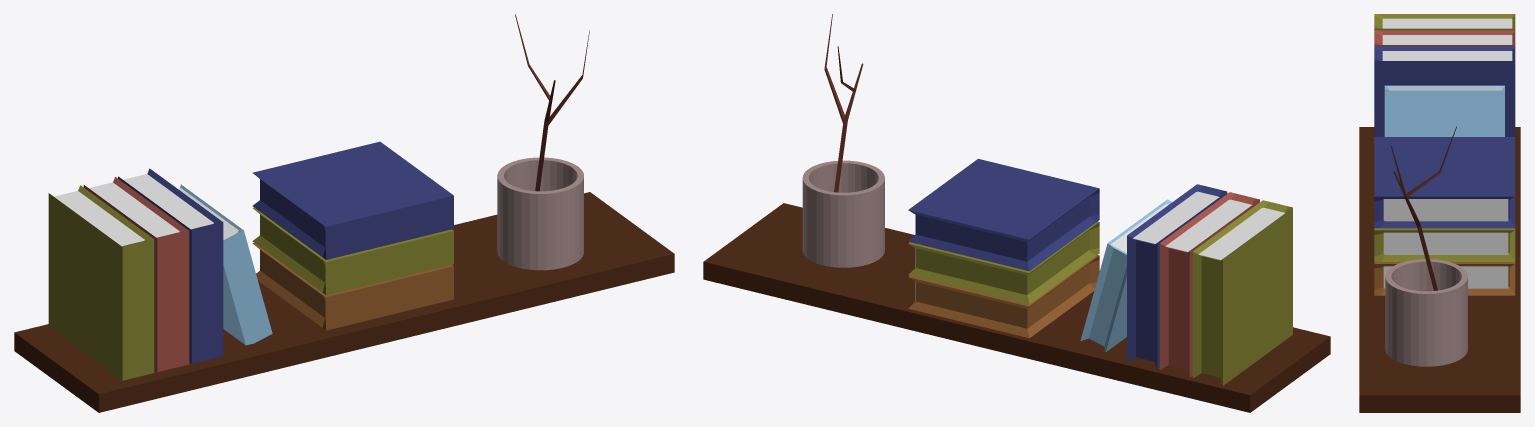
The model's file is shelf.fbx.
3 renders of one model, left to right at view 1: azimuth 30°, elevation 25°; view 2: azimuth 150°, elevation 25°; view 3: azimuth 270°, elevation 25°, orthographic. The views are drawn at different scales.
Visible parts, largest first — view 1: Cube.019, Cube.026, Cube.020, Cylinder, Cube.025, Cube.024, Cube.021, Cube.022, Cube.023, Plane.003, Plane.004, Plane.002 (+1 smaller); view 2: Cube.019, Cube.026, Cube.020, Cylinder, Cube.025, Cube.024, Cube.021, Cube.022, Cube.023, Plane.003, Plane.002, Plane.004 (+1 smaller); view 3: Cube.019, Cube.026, Cylinder, Cube.023, Cube.022, Plane.006, Plane.007, Cube.025, Plane.002, Plane.003, Plane.004, Cube.024 (+5 smaller).
Boxes of the visible parts, bbox=[...] form: Cube.019: bbox=[14, 192, 674, 412]; Cube.026: bbox=[252, 141, 453, 259]; Cube.020: bbox=[48, 185, 154, 380]; Cylinder: bbox=[497, 157, 583, 270]; Cube.025: bbox=[252, 207, 453, 295]; Cube.024: bbox=[252, 243, 453, 330]; Cube.021: bbox=[83, 177, 189, 372]; Cube.022: bbox=[118, 168, 223, 363]; Cube.023: bbox=[180, 184, 272, 345]; Plane.003: bbox=[89, 182, 179, 237]; Plane.004: bbox=[123, 174, 213, 229]; Plane.002: bbox=[54, 191, 144, 246]; Cube.019: bbox=[703, 203, 1330, 412]; Cube.026: bbox=[908, 158, 1099, 271]; Cube.020: bbox=[1192, 200, 1292, 385]; Cylinder: bbox=[802, 160, 884, 267]; Cube.025: bbox=[908, 221, 1099, 304]; Cube.024: bbox=[908, 255, 1099, 338]; Cube.021: bbox=[1159, 192, 1259, 377]; Cube.022: bbox=[1127, 184, 1227, 369]; Cube.023: bbox=[1080, 199, 1172, 351]; Plane.003: bbox=[1165, 199, 1251, 251]; Plane.002: bbox=[1198, 207, 1284, 259]; Plane.004: bbox=[1133, 191, 1219, 243]; Cube.019: bbox=[1359, 127, 1520, 412]; Cube.026: bbox=[1374, 137, 1515, 228]; Cylinder: bbox=[1385, 259, 1467, 366]; Cube.023: bbox=[1384, 85, 1504, 136]; Cube.022: bbox=[1374, 46, 1515, 136]; Plane.006: bbox=[1383, 199, 1508, 221]; Plane.007: bbox=[1383, 232, 1508, 254]; Cube.025: bbox=[1374, 228, 1515, 261]; Plane.002: bbox=[1382, 18, 1512, 28]; Plane.003: bbox=[1382, 35, 1512, 44]; Plane.004: bbox=[1382, 51, 1512, 60]; Cube.024: bbox=[1374, 262, 1515, 295].
Bounding box in the file's own units: 87.9 × 36.1 × 22.38.
